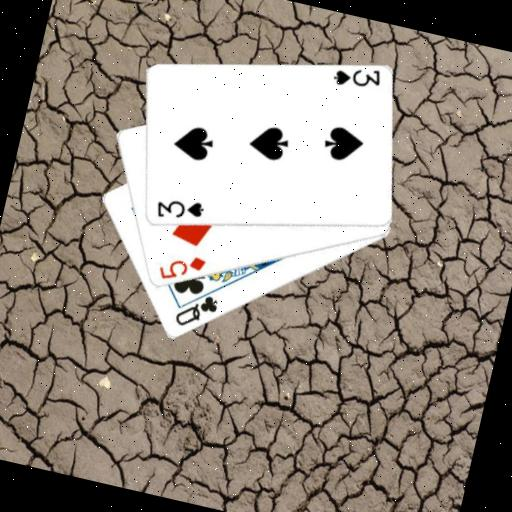3S: (151, 191, 207, 229), (329, 58, 385, 96)
5D: (154, 246, 209, 290)
QC: (170, 286, 222, 335)
